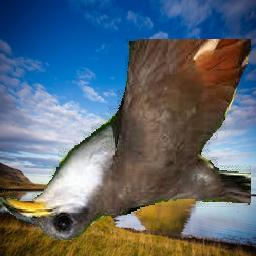Cuckoo: (0, 40, 251, 241)
